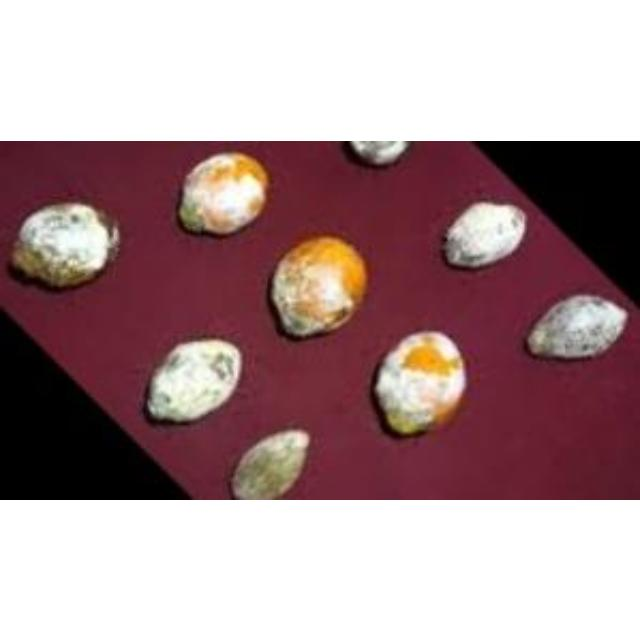damaged: (373, 328, 469, 436), (270, 233, 368, 337), (11, 200, 118, 286), (144, 336, 242, 424), (178, 149, 270, 235), (524, 291, 630, 361), (230, 428, 312, 498), (442, 200, 526, 268), (349, 141, 409, 165)
